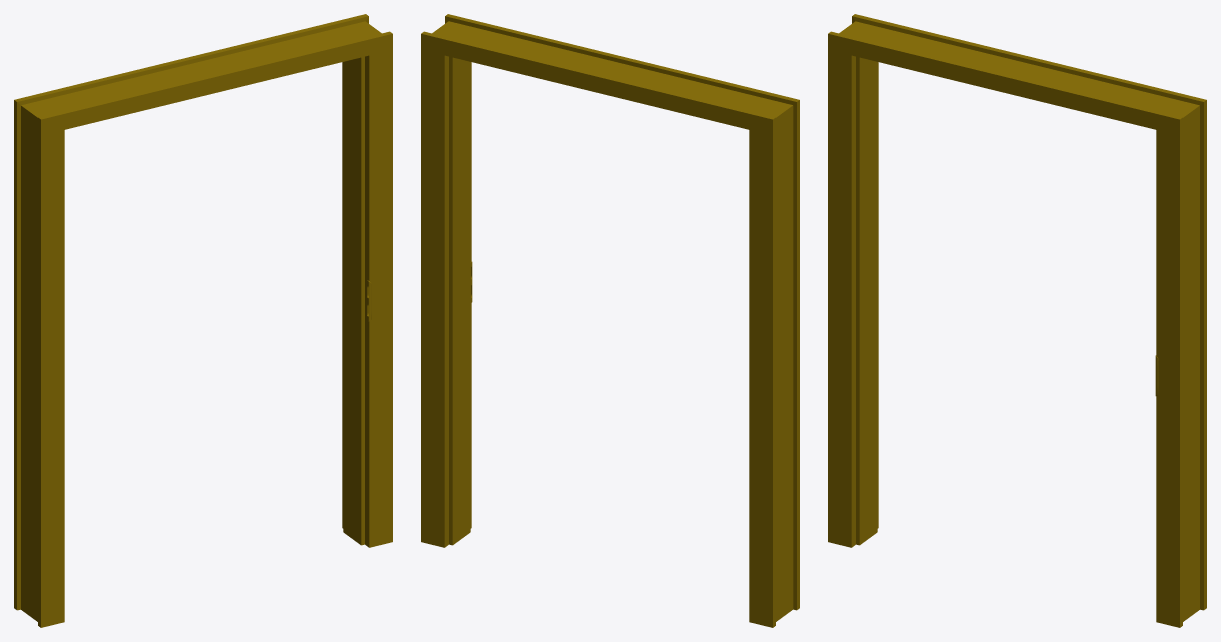
The model's file is door-part-1.glb.
3 views of the same model, side by side, from view 1: azimuth 30°, elevation 25°; view 2: azimuth 150°, elevation 25°; view 3: azimuth 330°, elevation 25° (orthographic).
Visible parts, largest first — view 1: Plane.002; view 2: Plane.002; view 3: Plane.002.
Part boxes in pixels (bbox=[...]): Plane.002: bbox=[14, 14, 392, 627]; Plane.002: bbox=[421, 14, 799, 627]; Plane.002: bbox=[828, 14, 1206, 627].
Size of the model in its own units: 2.04 by 2.81 by 0.2722.
Materials: 1 (1 with a texture image).
